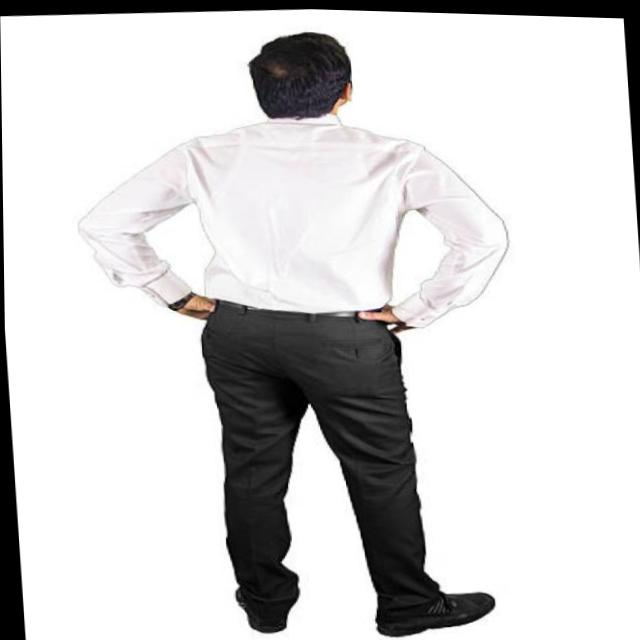no helmet: (210, 28, 392, 126)
